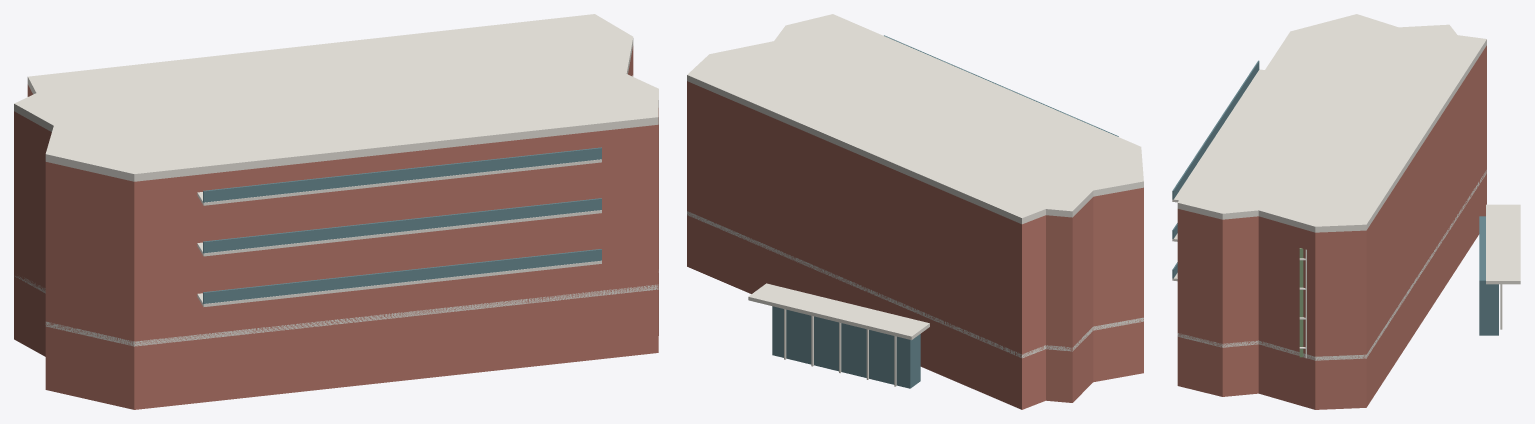
The model's file is stanley.glb.
3 renders of one model, left to right at view 1: azimuth 30°, elevation 25°; view 2: azimuth 150°, elevation 25°; view 3: azimuth 270°, elevation 25°, orthographic. The views are drawn at different scales.
Visible parts, largest first — view 1: SHB_tower, SHB_roof_slab, SHB_podium, SHB_rail_2, SHB_rail_1, SHB_rail_0, SHB_band, SHB_balcony_1, SHB_balcony_2, SHB_balcony_0; view 2: SHB_tower, SHB_roof_slab, SHB_podium, SHB_atrium, SHB_canopy, SHB_band; view 3: SHB_roof_slab, SHB_tower, SHB_podium, SHB_canopy, SHB_atrium, SHB_band, SHB_rail_2, SHB_balcony_2, SHB_green_wall.
Part boxes in pixels (x1,y1,x2,y2): SHB_tower: (14, 46, 658, 346); SHB_roof_slab: (14, 14, 658, 181); SHB_podium: (14, 273, 658, 409); SHB_rail_2: (203, 147, 601, 202); SHB_rail_1: (203, 198, 601, 253); SHB_rail_0: (203, 249, 601, 303); SHB_band: (15, 271, 658, 346); SHB_balcony_1: (197, 210, 601, 256); SHB_balcony_2: (197, 159, 601, 205); SHB_balcony_0: (197, 260, 601, 306); SHB_tower: (687, 81, 1143, 357); SHB_roof_slab: (687, 14, 1143, 224); SHB_podium: (687, 215, 1143, 409); SHB_atrium: (772, 306, 920, 388); SHB_canopy: (748, 283, 929, 340); SHB_band: (687, 211, 1143, 358); SHB_roof_slab: (1177, 14, 1486, 232); SHB_tower: (1177, 45, 1486, 360); SHB_podium: (1177, 173, 1486, 409); SHB_canopy: (1486, 204, 1520, 284); SHB_atrium: (1479, 216, 1498, 335); SHB_band: (1177, 170, 1486, 360); SHB_rail_2: (1172, 60, 1259, 199); SHB_balcony_2: (1172, 69, 1264, 202); SHB_green_wall: (1299, 248, 1303, 357).
Size of the model in its own units: 46.32 by 18.6 by 32.07.
